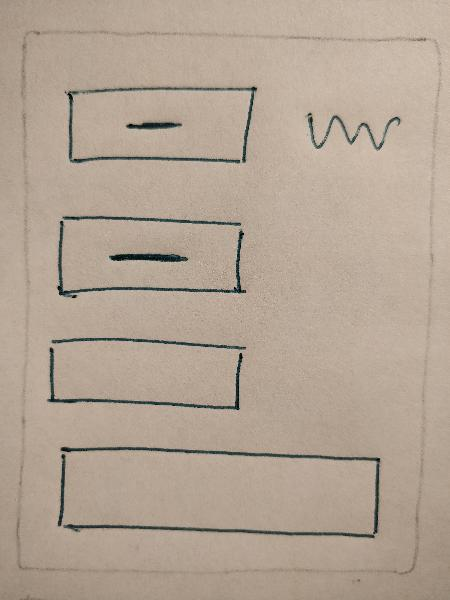button: (56, 74, 261, 175), (48, 208, 250, 308)
text: (294, 97, 404, 168)
text_input: (48, 439, 385, 547), (44, 328, 250, 426)
